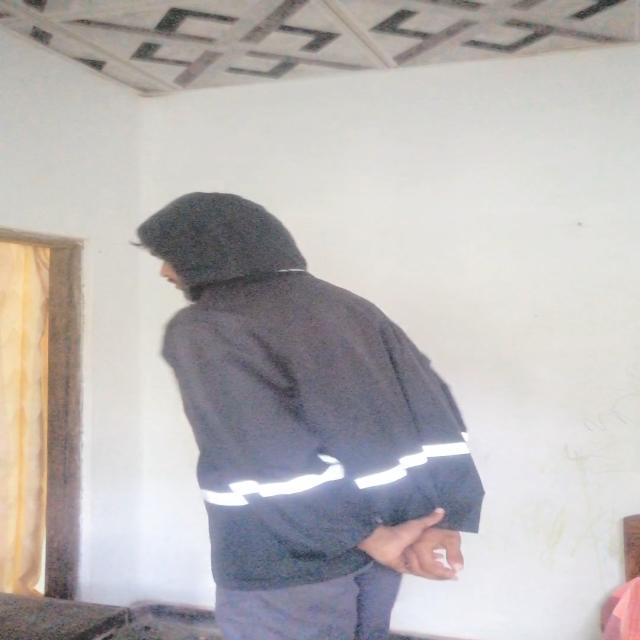Jacket_Wearer: (114, 177, 510, 572)
